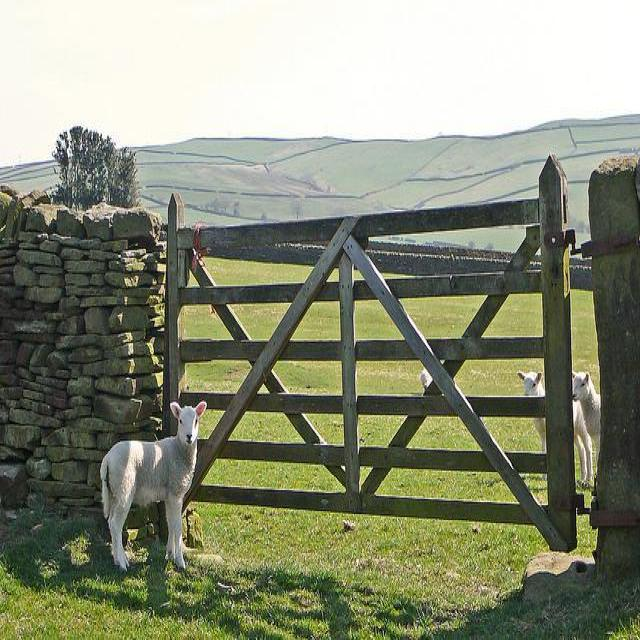Sheep: (102, 406, 204, 571), (517, 372, 594, 487)
